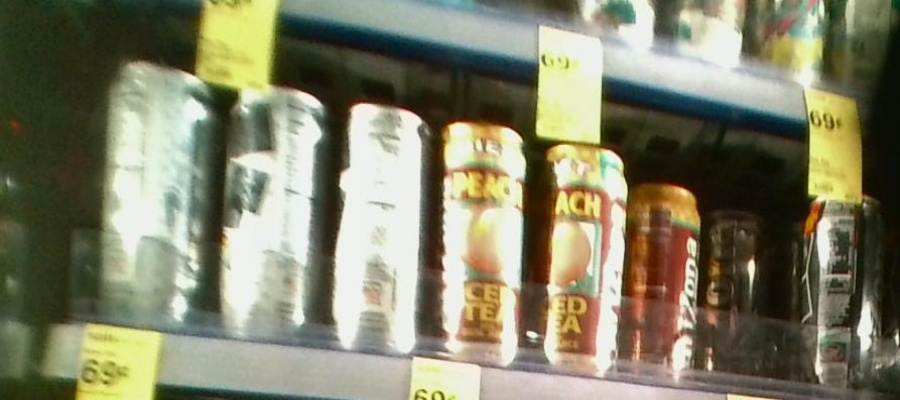bottle: (95, 48, 215, 333), (223, 65, 325, 343), (337, 82, 433, 359), (434, 102, 530, 364), (535, 118, 629, 379), (791, 173, 886, 398), (633, 158, 699, 390)
